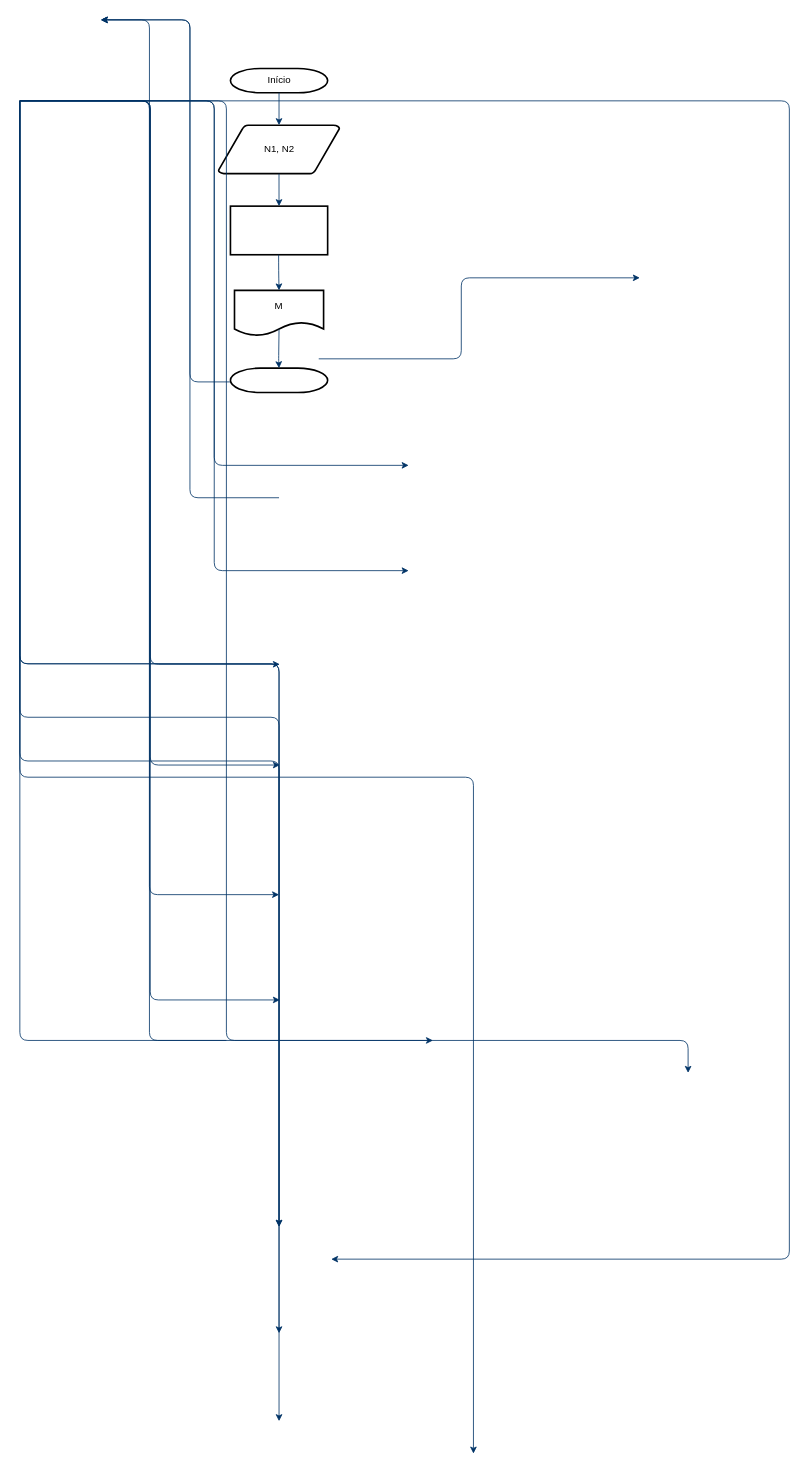
Image size: 810x1474. Some labels were removed from this diagram. The shapes that lost their labels are listed below. From the top down, each one's box as (x1, y1, x2, y2) in pixels, then its label:
(229, 205, 328, 255): M = N1 + N2
(229, 367, 328, 393): Fim
